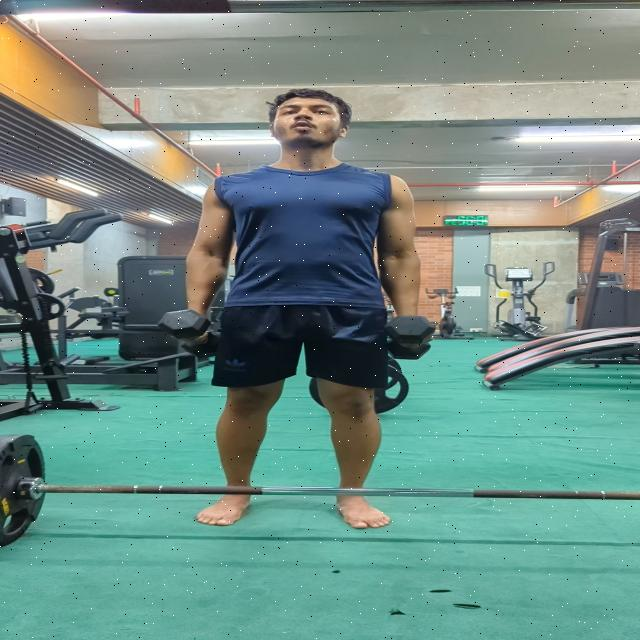Normal_DumbbellBicepCurls: (144, 81, 454, 530)
